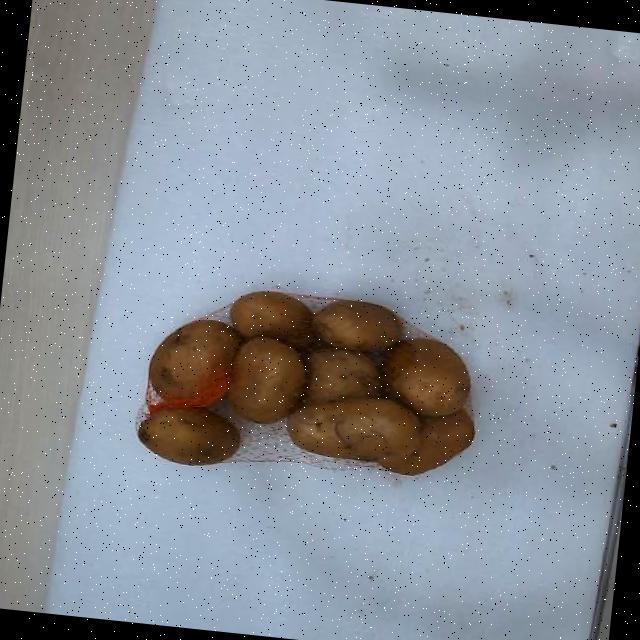potato: (286, 397, 420, 459), (148, 318, 240, 406), (227, 336, 305, 421), (384, 337, 469, 415), (379, 408, 474, 473), (137, 406, 239, 464), (231, 290, 313, 348), (311, 299, 401, 350), (303, 347, 380, 402)
